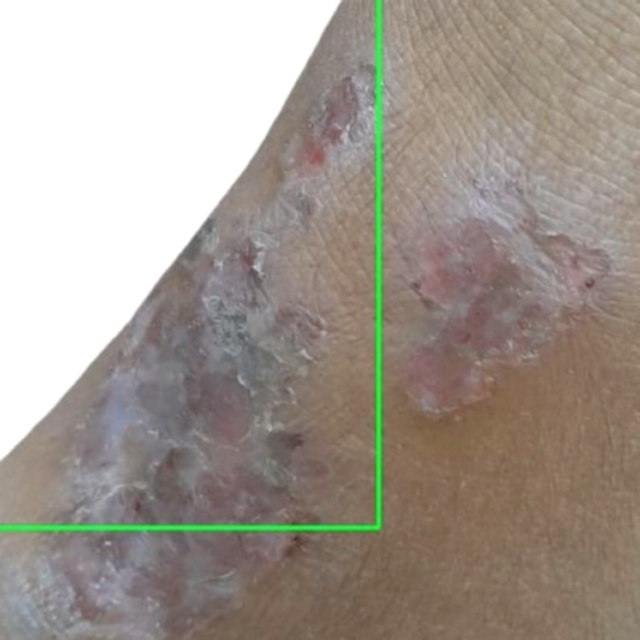Contact Dermatitis: (0, 0, 378, 527)
